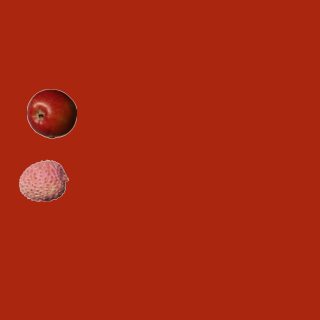Apple Braeburn: (26, 88, 76, 138)
Lychee: (18, 155, 68, 205)
